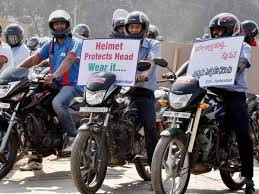helmet: (205, 13, 241, 38), (47, 8, 73, 39), (125, 9, 150, 40)
